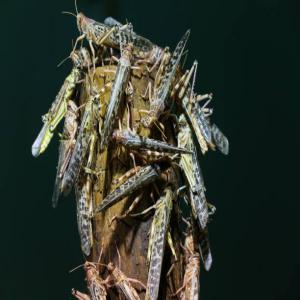locust: (32, 50, 89, 160), (167, 109, 210, 225), (93, 153, 155, 230), (99, 44, 147, 139)
